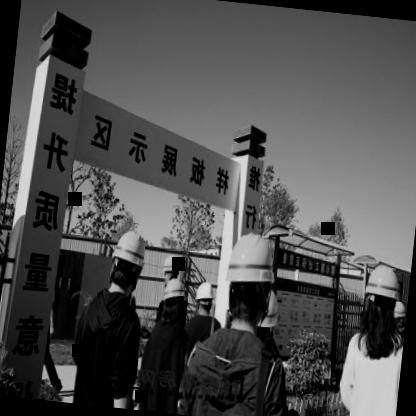helmet: (219, 226, 278, 332), (106, 222, 149, 296), (363, 262, 401, 328), (157, 274, 190, 324), (192, 279, 214, 318), (159, 252, 181, 284)
